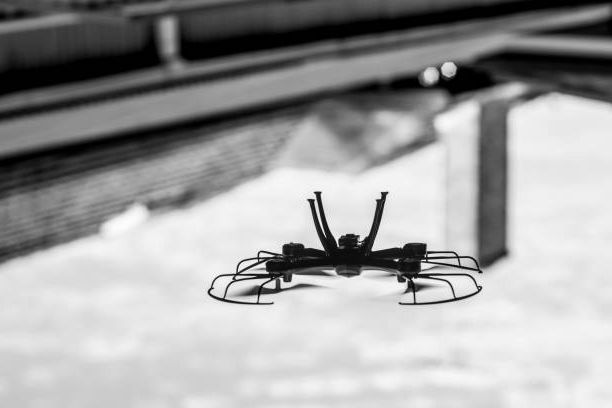Drone: (194, 187, 488, 313)
